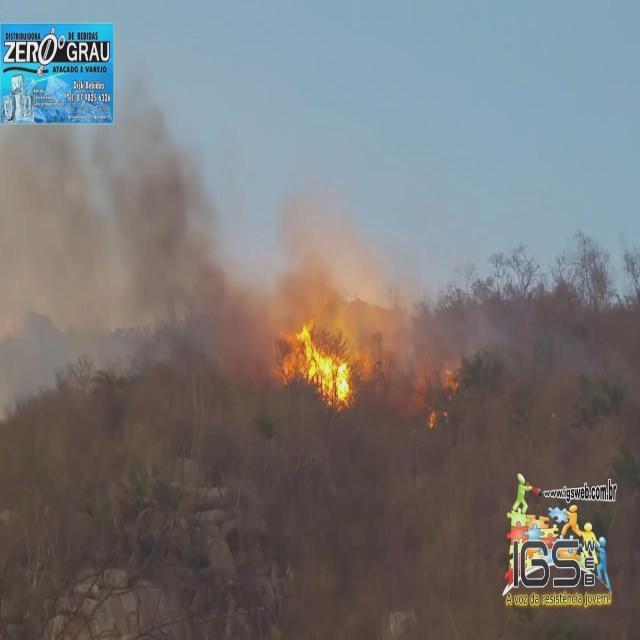Fire: (280, 332, 354, 404), (442, 370, 458, 391), (427, 402, 439, 428)
